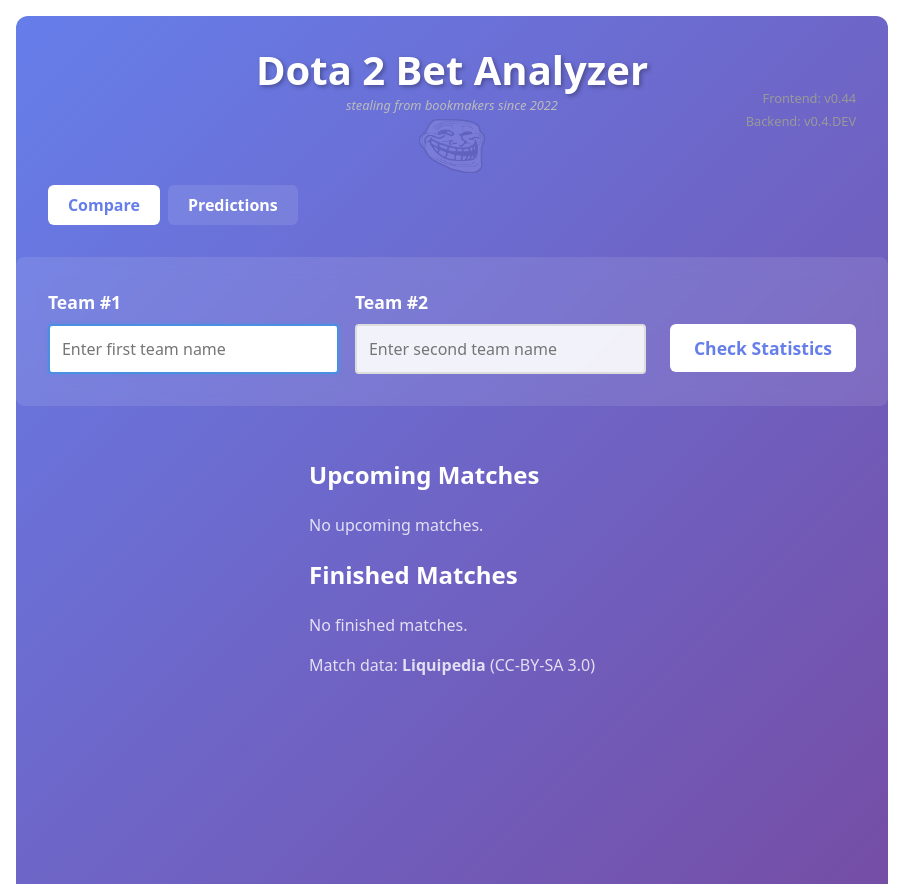
Scenario: App Component › API Integration › should handle HTTP errors
The width and height of the screenshot is (905, 884).
In the field with placeholder "Enter first team name": (193, 348) [48,323,339,373], type "Team A"
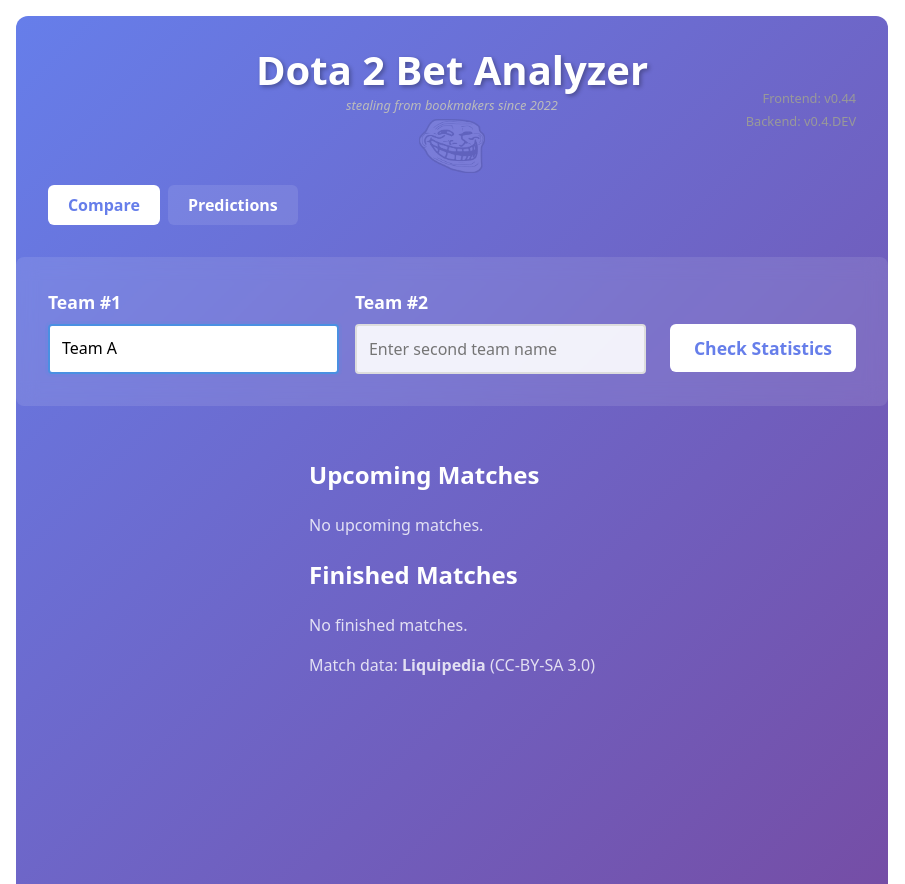
In the field with placeholder "Enter second team name": (500, 348) [355,323,646,373], type "Team B"
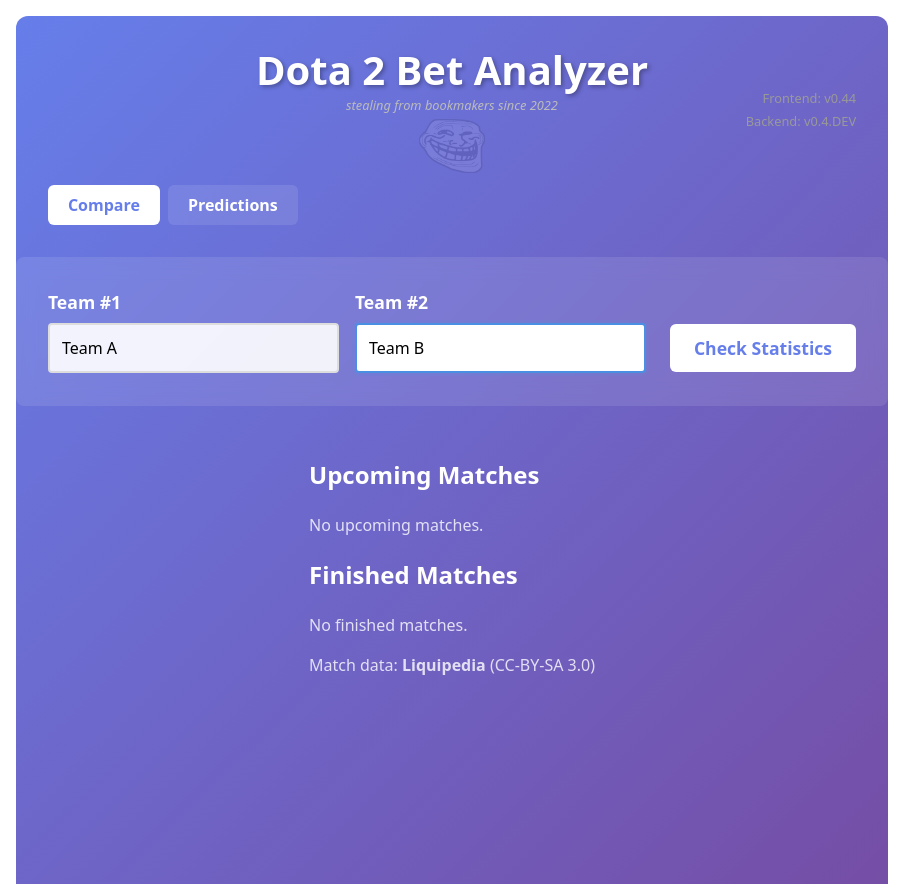
Click the button "Check Statistics": (763, 347) [670,323,856,371]
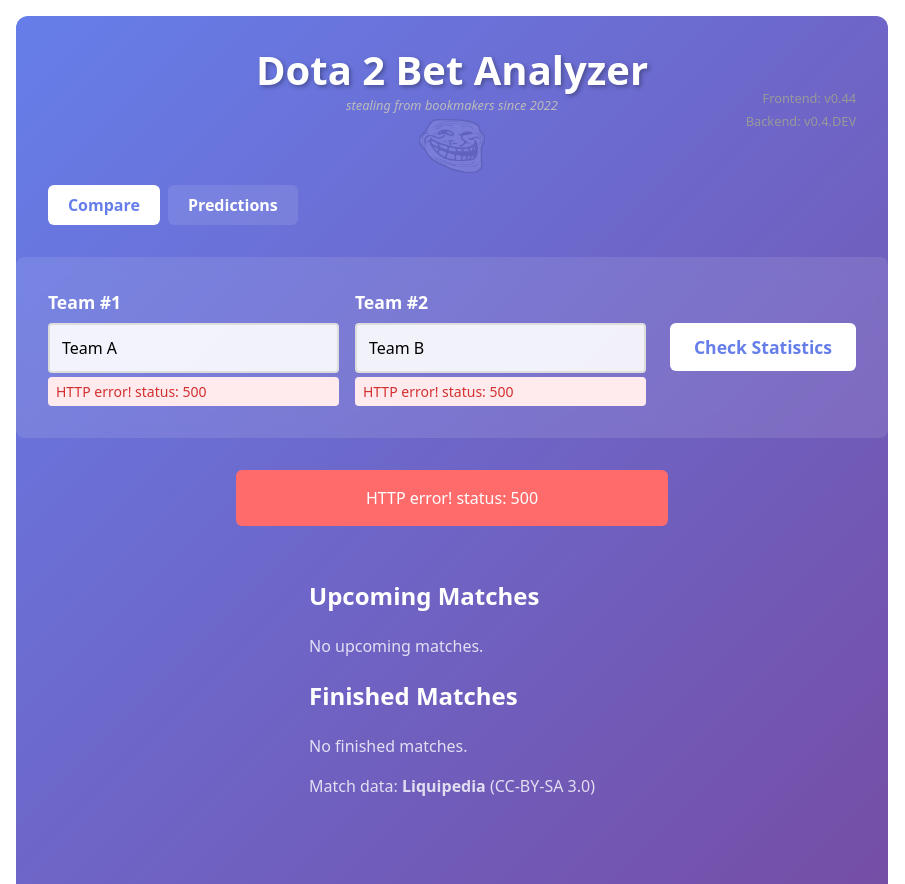
Check: the 3rd text "HTTP error! status: 500" is shown, box [236,470,668,526]
